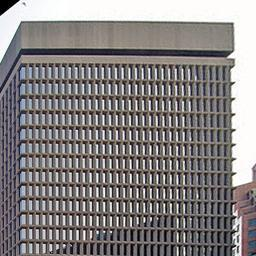building: (19, 19, 237, 256)
